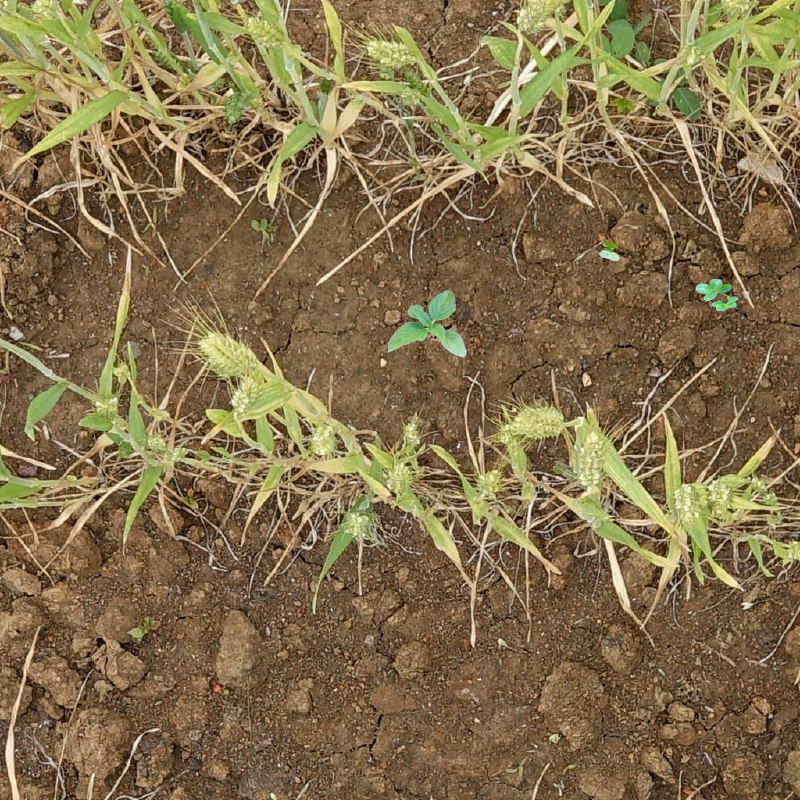spikelet: (197, 329, 261, 377), (505, 401, 567, 441), (575, 427, 608, 494), (514, 1, 569, 35), (363, 36, 418, 69), (227, 373, 262, 420), (243, 13, 284, 49), (342, 505, 380, 543), (667, 479, 698, 524), (305, 419, 340, 458), (221, 85, 249, 125), (473, 467, 505, 500), (384, 459, 414, 494), (705, 479, 734, 515), (89, 391, 122, 420), (399, 415, 425, 451), (675, 40, 703, 70), (718, 1, 756, 19), (29, 1, 62, 21), (781, 533, 800, 565)
weed: (388, 290, 467, 357), (604, 1, 657, 65), (695, 279, 739, 312), (669, 85, 705, 124), (599, 242, 620, 261)
